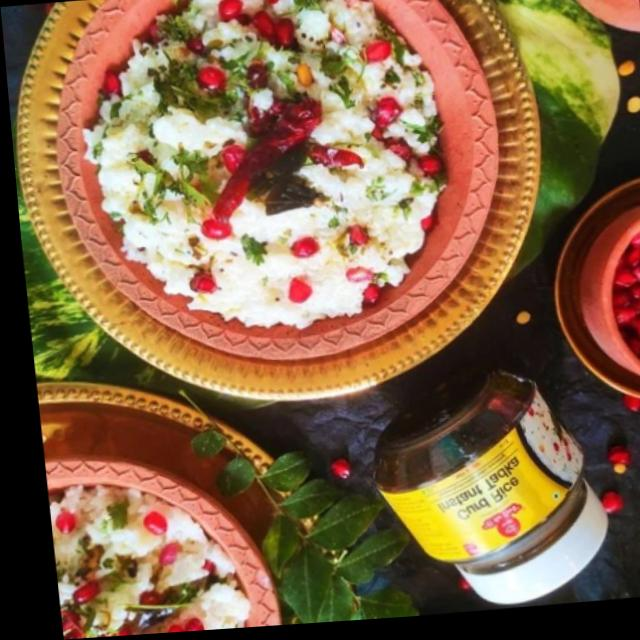CURD RICE: (78, 0, 440, 326), (50, 479, 245, 640)
